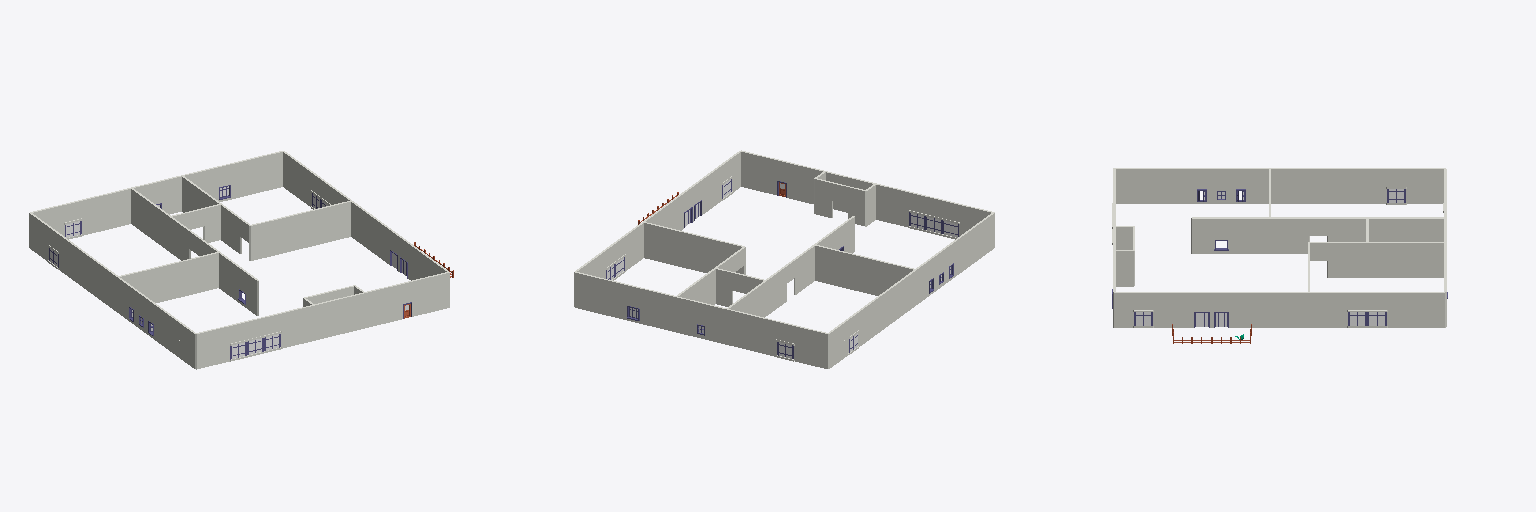
The model's file is CatAmariHouse.obj.
3 renders of one model, left to right at view 1: azimuth 30°, elevation 25°; view 2: azimuth 150°, elevation 25°; view 3: azimuth 270°, elevation 25°, orthographic.
Visible parts, largest first — view 1: mergedBlocks; view 2: mergedBlocks; view 3: mergedBlocks.
Boxes of the visible parts, x1,y1,x2,y2 form: mergedBlocks: [29, 151, 453, 369]; mergedBlocks: [574, 150, 994, 368]; mergedBlocks: [1112, 168, 1447, 343].
Size of the model in its own units: 17.15 by 2 by 17.23.